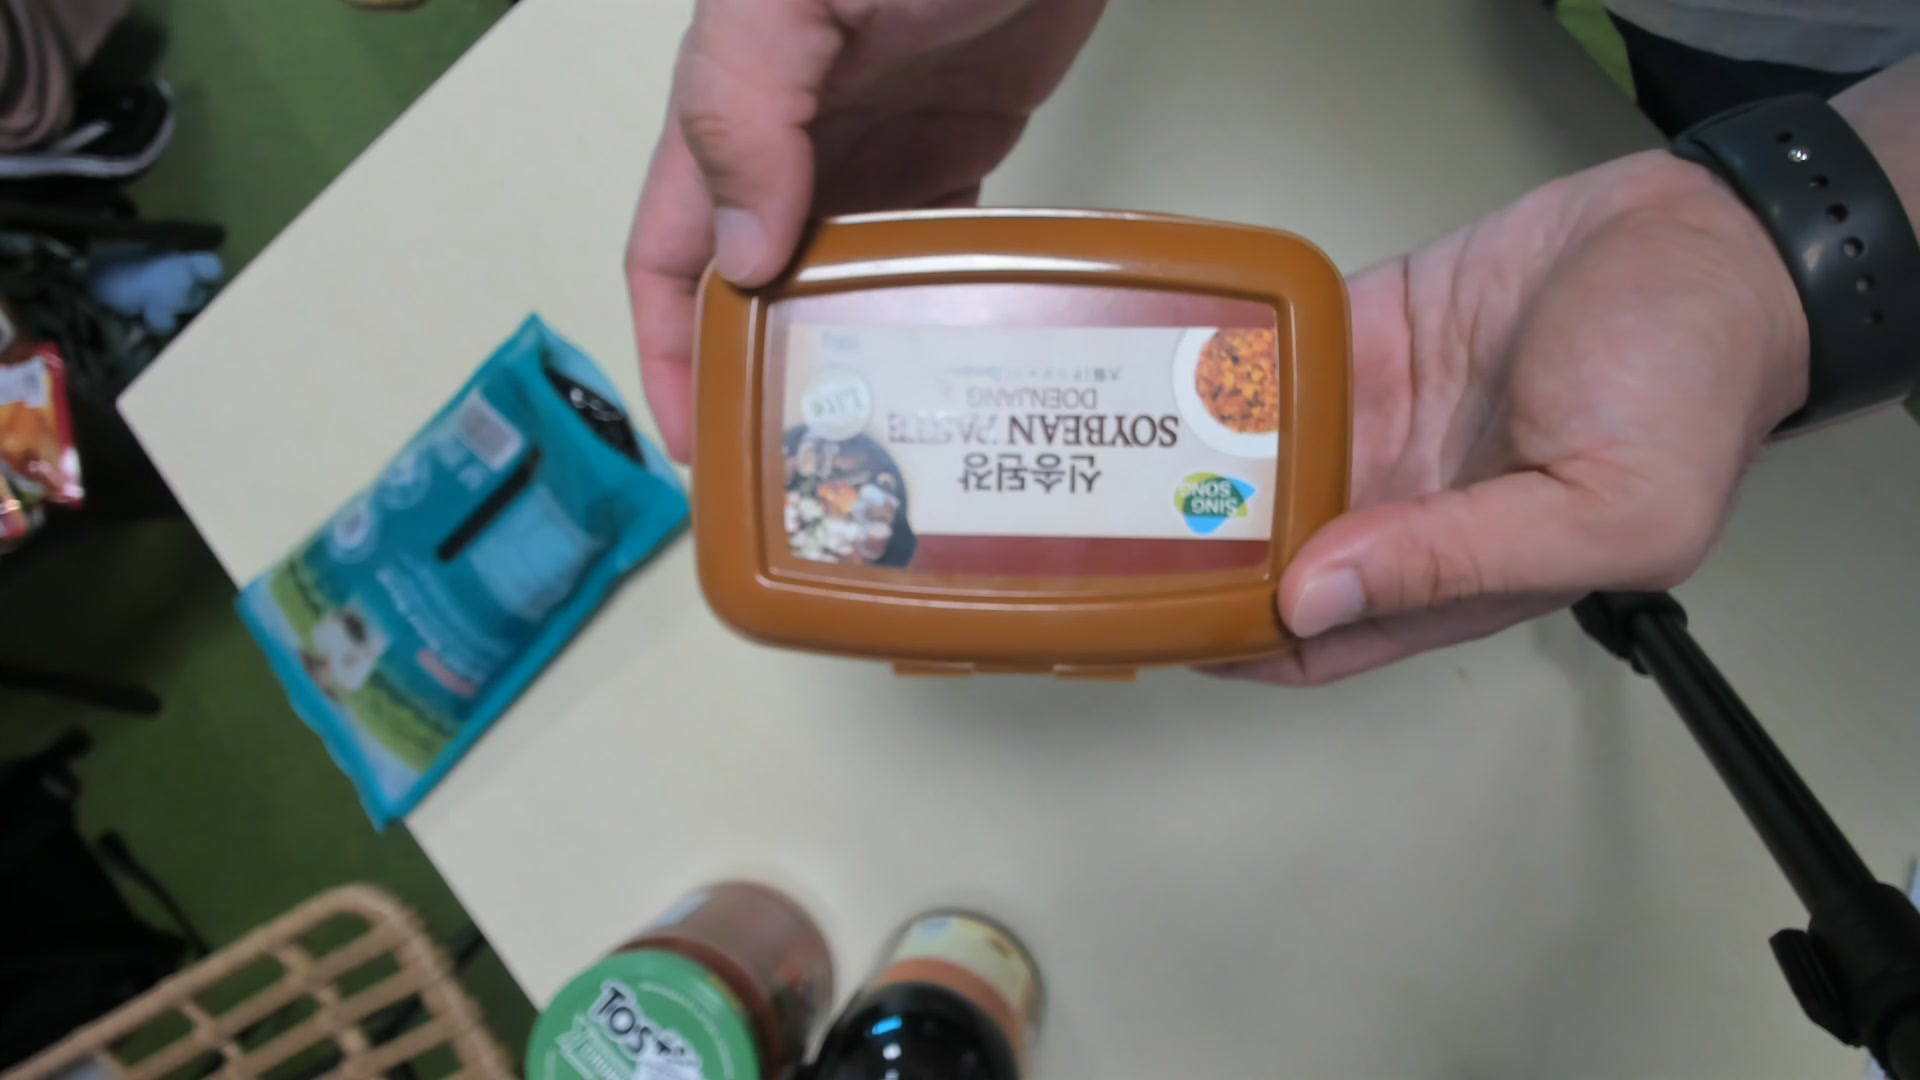OtherSauceDressing_500-599g_NonHalal_NonHealthy: (686, 203, 1353, 691)
